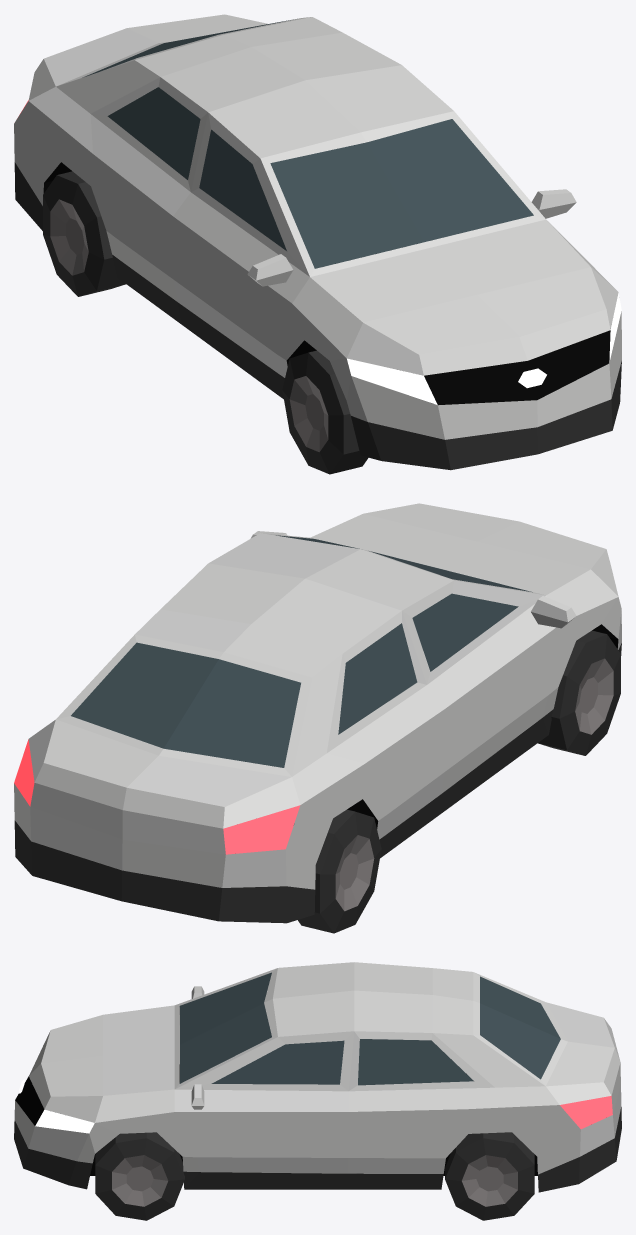
File: vehicles_car_1.glb
3 renders of one model, top to bottom at view 1: azimuth 30°, elevation 25°; view 2: azimuth 150°, elevation 25°; view 3: azimuth 270°, elevation 25°, orthographic. The views are drawn at different scales.
Visible parts, largest first — view 1: car-passenger-base, car-passenger-wheel_FR, car-passenger-wheel_BR; view 2: car-passenger-base, car-passenger-wheel_FR, car-passenger-wheel_BR; view 3: car-passenger-base, car-passenger-wheel_BL, car-passenger-wheel_FL.
Part boxes in pixels (<box>): car-passenger-base: <box>14,14,621,470</box>; car-passenger-wheel_FR: <box>282,350,368,474</box>; car-passenger-wheel_BR: <box>43,171,125,296</box>; car-passenger-base: <box>14,503,621,923</box>; car-passenger-wheel_FR: <box>538,630,620,755</box>; car-passenger-wheel_BR: <box>298,809,381,933</box>; car-passenger-base: <box>14,962,621,1192</box>; car-passenger-wheel_BL: <box>445,1132,534,1220</box>; car-passenger-wheel_FL: <box>95,1132,184,1220</box>.
Bounding box in the file's own units: 2.1 × 1.55 × 4.72.
